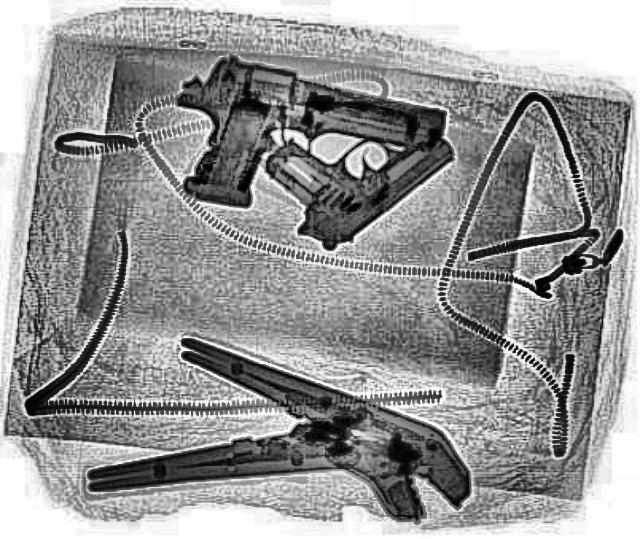Gun: (143, 49, 449, 242), (237, 78, 466, 248)
